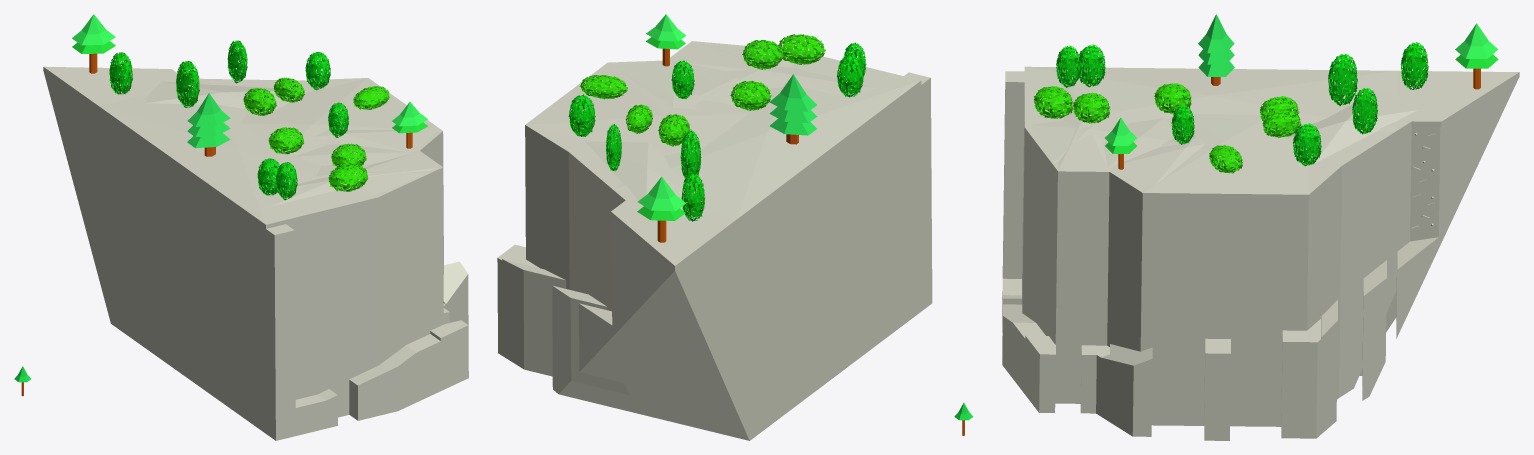
The model's file is Level2.fbx.
The picture shows the model from 3 angles, left to right: view 1: azimuth 30°, elevation 25°; view 2: azimuth 150°, elevation 25°; view 3: azimuth 270°, elevation 25°; orthographic projection. The views are drawn at different scales.
Parts seen in each view (by area): view 1: obj_0, Cone.008, Cone.003, Cube.019, Cube.006, Cube.004, Cone.001, Cube.010, Cube.009, Cube.005, Cube.008, Cube.001 (+5 smaller); view 2: obj_0, Cone.008, Cone.003, Cube.006, Cone.001, Cube.009, Cube.018, Cube.001, Cube.010, Cube.003, Cube.004, Cube.019 (+4 smaller); view 3: obj_0, Cone.008, Cone.003, Cube.019, Cube.004, Cube.006, Cube.010, Cube.008, Cube.003, Cube.018, Cube.009, Cone.001 (+5 smaller).
Part boxes in pixels (<box>): obj_0: <box>43,66,468,440</box>; Cone.008: <box>187,93,230,156</box>; Cone.003: <box>72,14,115,73</box>; Cube.019: <box>176,61,199,107</box>; Cube.006: <box>328,163,367,191</box>; Cube.004: <box>109,52,132,94</box>; Cone.001: <box>392,102,428,148</box>; Cube.010: <box>305,52,330,90</box>; Cube.009: <box>268,127,303,154</box>; Cube.005: <box>243,88,276,115</box>; Cube.008: <box>227,40,247,83</box>; Cube.001: <box>353,86,389,109</box>; obj_0: <box>497,41,932,440</box>; Cone.008: <box>769,74,817,144</box>; Cone.003: <box>637,176,685,242</box>; Cube.006: <box>778,34,825,64</box>; Cone.001: <box>646,14,686,66</box>; Cube.009: <box>730,80,771,110</box>; Cube.018: <box>742,40,783,69</box>; Cube.001: <box>579,75,627,99</box>; Cube.010: <box>568,94,595,136</box>; Cube.003: <box>836,54,863,97</box>; Cube.004: <box>681,172,704,221</box>; Cube.019: <box>680,129,701,181</box>; obj_0: <box>1002,66,1519,440</box>; Cone.008: <box>1198,14,1234,85</box>; Cone.003: <box>1455,23,1498,89</box>; Cube.019: <box>1328,54,1357,106</box>; Cube.004: <box>1400,42,1428,89</box>; Cube.006: <box>1034,86,1072,118</box>; Cube.010: <box>1293,123,1321,166</box>; Cube.008: <box>1352,88,1377,134</box>; Cube.003: <box>1077,44,1105,87</box>; Cube.018: <box>1073,92,1110,123</box>; Cube.009: <box>1154,83,1191,113</box>; Cone.001: <box>1105,117,1136,169</box>.
Bounding box in the file's own units: 40416 × 26166 × 40236.
